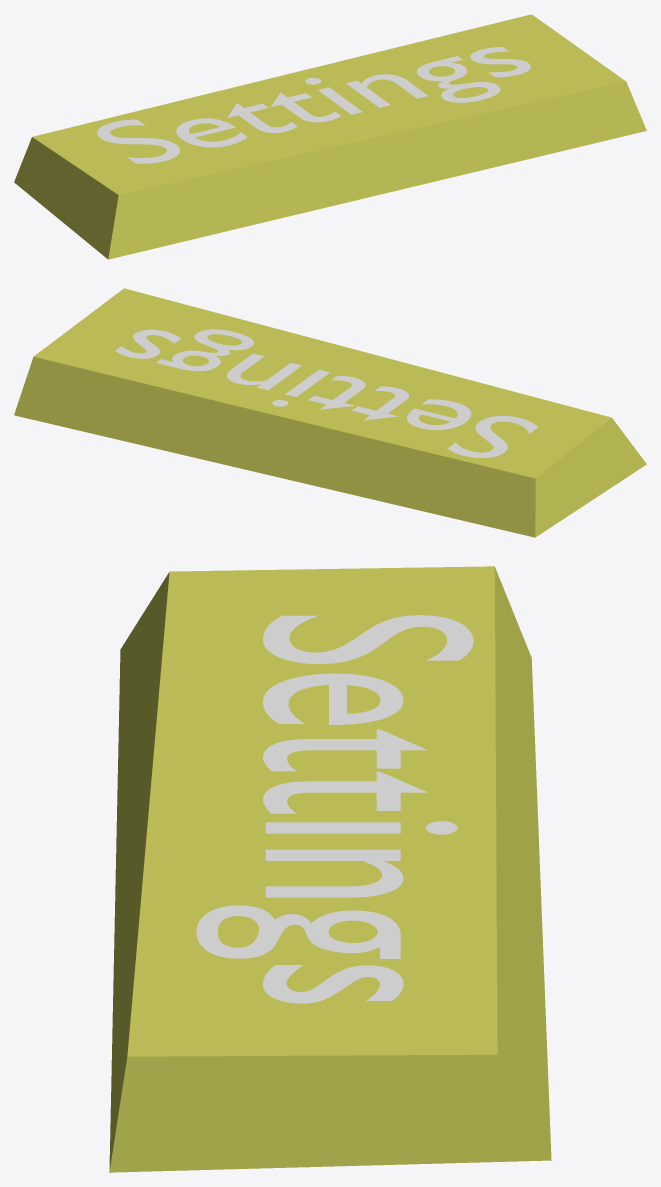
Rendered from button_4.fbx.
The picture shows the model from 3 angles, top to bottom: view 1: azimuth 30°, elevation 25°; view 2: azimuth 150°, elevation 25°; view 3: azimuth 270°, elevation 25°; orthographic projection. The views are drawn at different scales.
Parts seen in each view (by area): view 1: Cube, Text; view 2: Cube, Text; view 3: Cube, Text.
Boxes of the visible parts, left/top/right/bottom form: Cube: left=14, top=14, right=646, bottom=259; Text: left=97, top=47, right=530, bottom=163; Cube: left=14, top=288, right=646, bottom=537; Text: left=115, top=329, right=538, bottom=457; Cube: left=109, top=566, right=551, bottom=1172; Text: left=196, top=615, right=473, bottom=1003.
Bounding box in the file's own units: 411 × 36.7 × 147.
